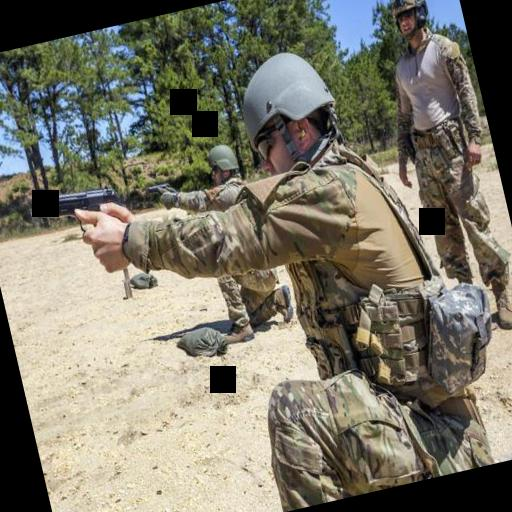Handgun: (27, 165, 124, 242), (139, 174, 171, 200)
